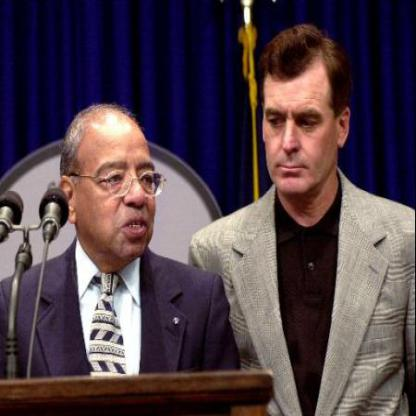face: (74, 112, 164, 267), (260, 39, 342, 201)
